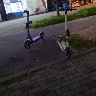beam: (20, 8, 46, 50)
gcooter: (51, 6, 75, 61)
